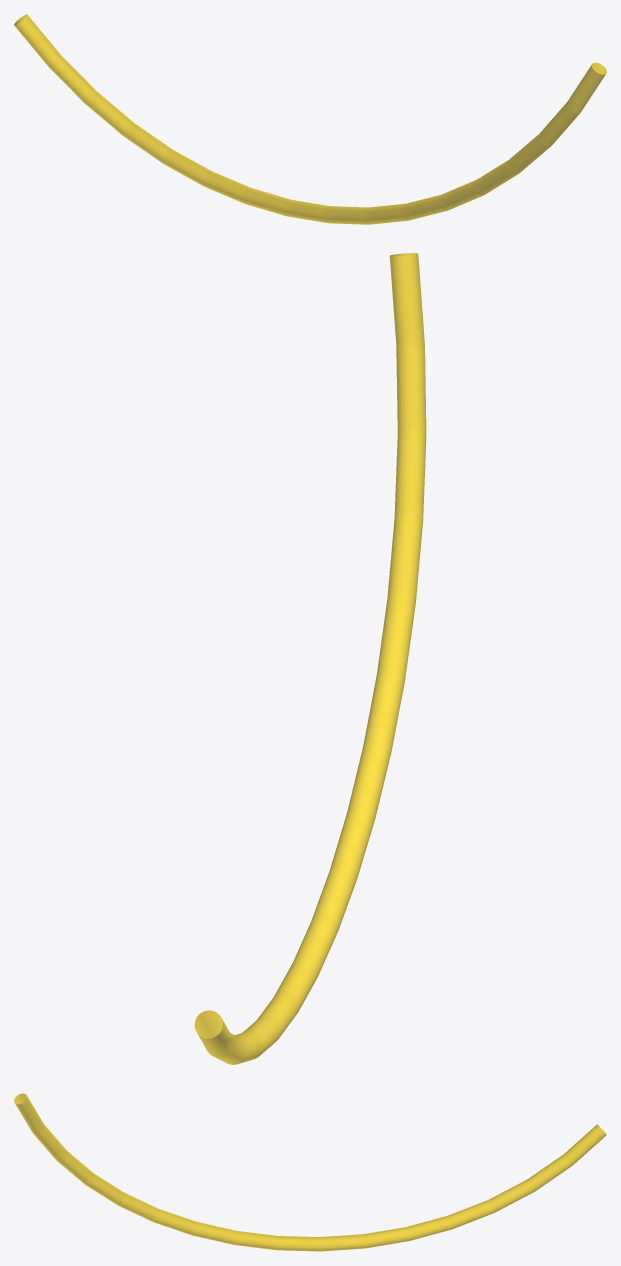
Rendered from Event_100608114_track_54.fbx.
3 renders of one model, top to bottom at view 1: azimuth 30°, elevation 25°; view 2: azimuth 150°, elevation 25°; view 3: azimuth 270°, elevation 25°, orthographic. The views are drawn at different scales.
Visible parts, largest first — view 1: Model; view 2: Model; view 3: Model.
Boxes of the visible parts, x1,y1,x2,y2 form: Model: [14, 14, 606, 224]; Model: [194, 253, 426, 1064]; Model: [14, 1093, 606, 1251].
Bounding box in the file's own units: 0.6562 × 0.6482 × 1.64.
